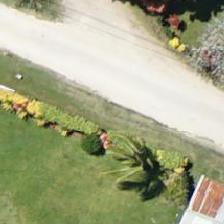coconut_tree: (98, 123, 188, 213)
